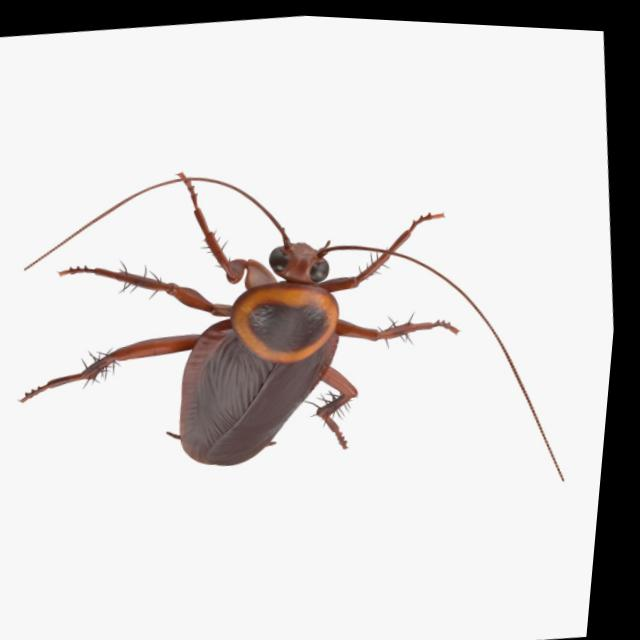Cockroach: (0, 106, 602, 553)
